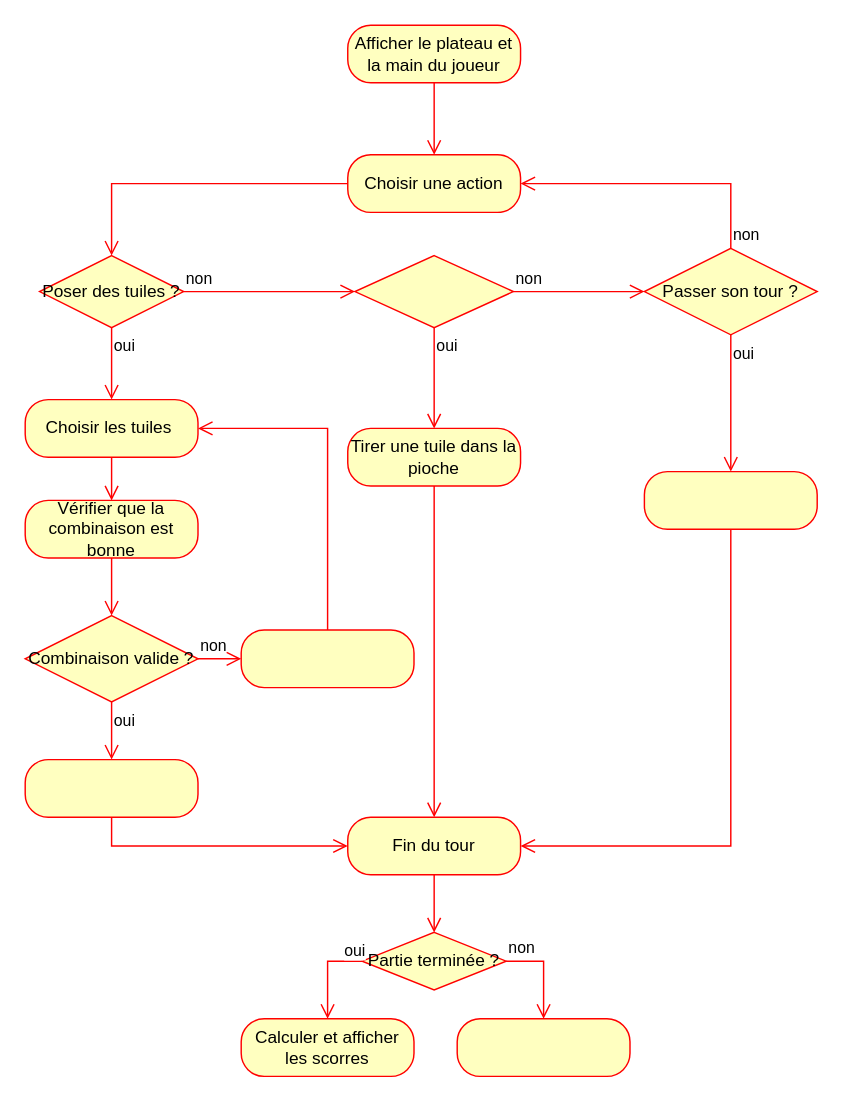
The diagram is 842 pixels wide and 1102 high, and some of its shapes have lost their labels. Here are the shapes that lost their labels. From the top down, the centre of each, then its label:
the point at 433,291: Piocher une tuile ?
the point at 730,499: Passe le tour
the point at 327,658: Message d'erreur
the point at 111,787: Poser la combinaison sur le plateau
the point at 543,1046: Changer de joueur
